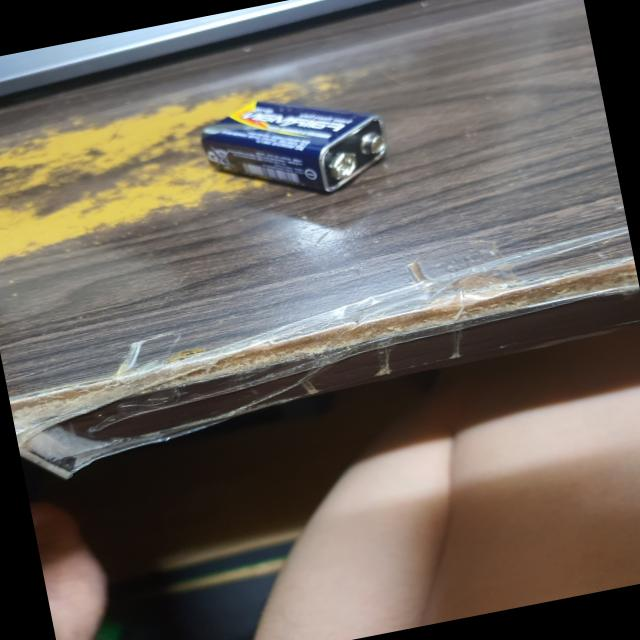battery-etc-etc: (190, 64, 406, 218)
